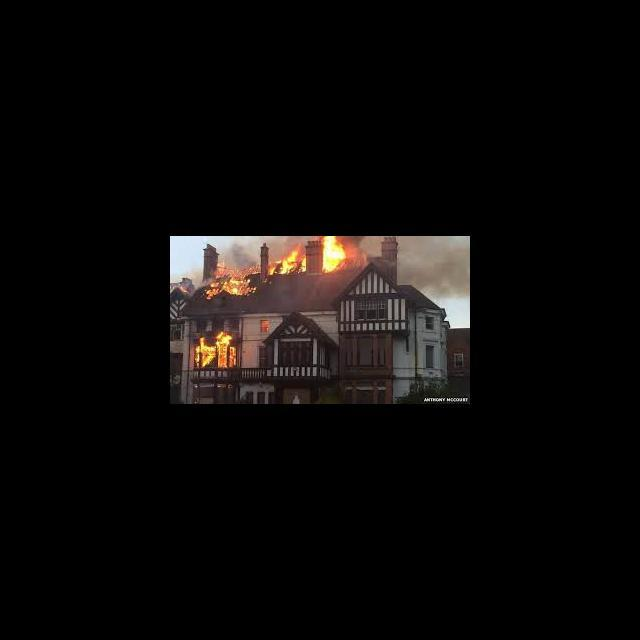Fire: (193, 327, 238, 372), (202, 276, 256, 300), (322, 236, 347, 275), (269, 251, 306, 273), (433, 282, 470, 300), (262, 320, 270, 332), (179, 286, 189, 294)
Smoke: (400, 237, 470, 283), (224, 237, 258, 266), (271, 237, 305, 250)
